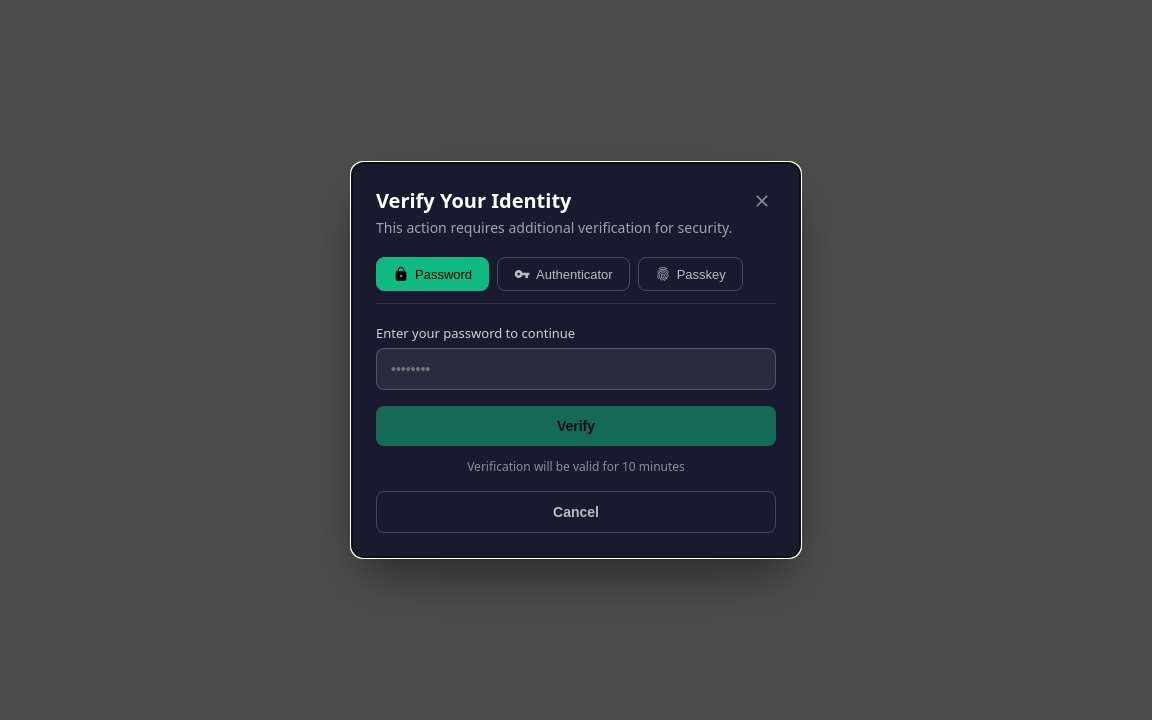
Scenario: ReverificationModal › method tabs › should switch forms when method tab is clicked
Check: the form with test id "password-form" is shown, box [376,324,776,446]
Note: Click MFA tab using act to ensure state updates
Click the tab "Authenticator": (563,274) [497,257,630,291]
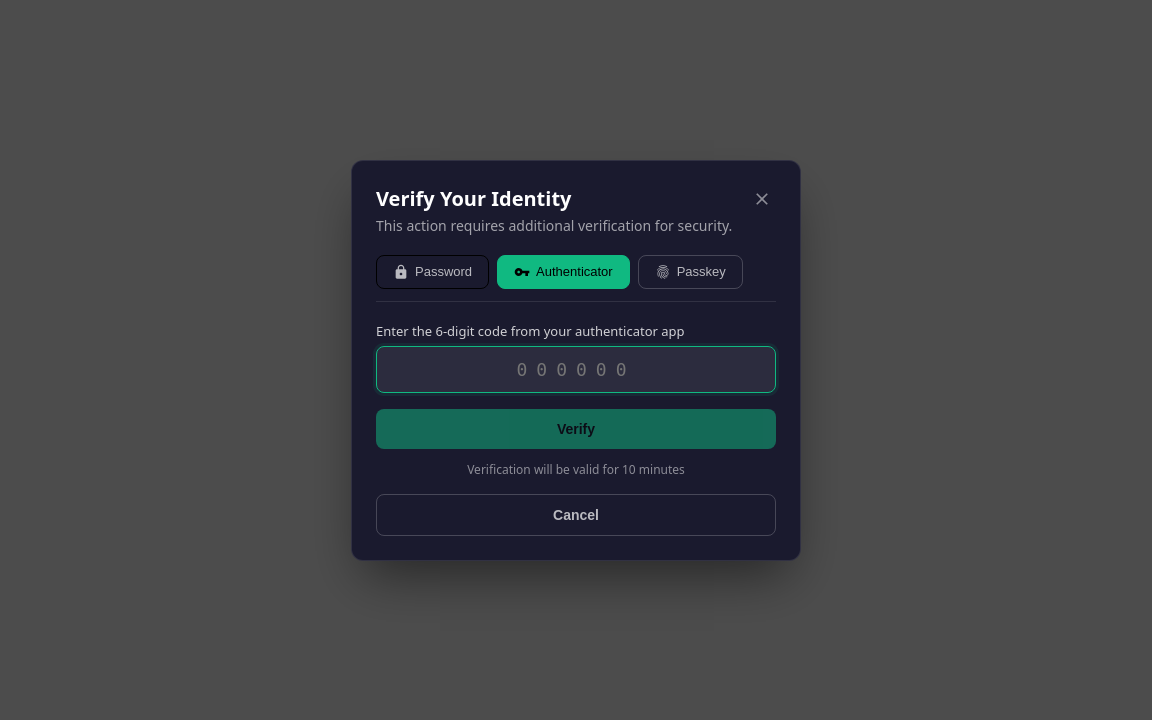
Check: the form with test id "mfa-form" is shown, box [376,322,776,448]
Check: the form with test id "password-form" is gone
